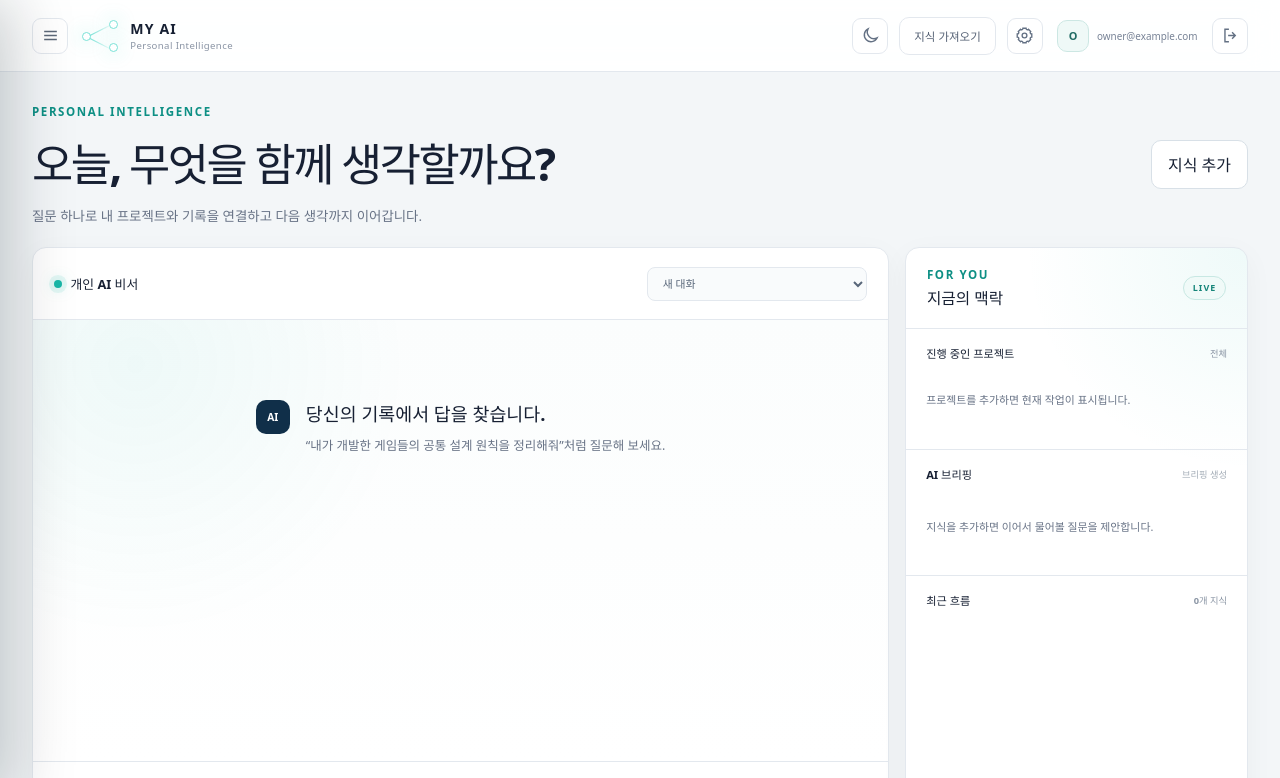
Test: authentication shell › logs out and returns to login
Click the button named "로그아웃" at (1230, 36), box [1212,18,1248,54]
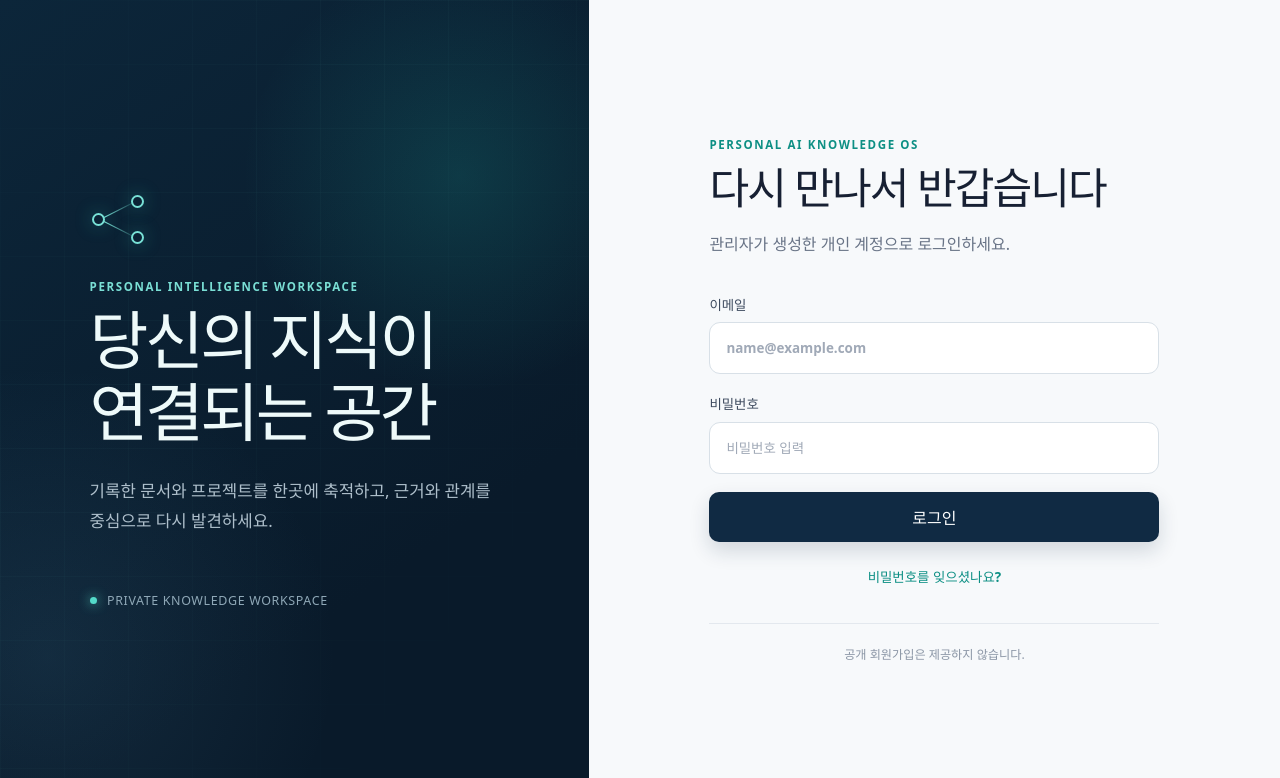
Check: the heading "다시 만나서 반갑습니다" is shown, box [709,162,1159,215]
